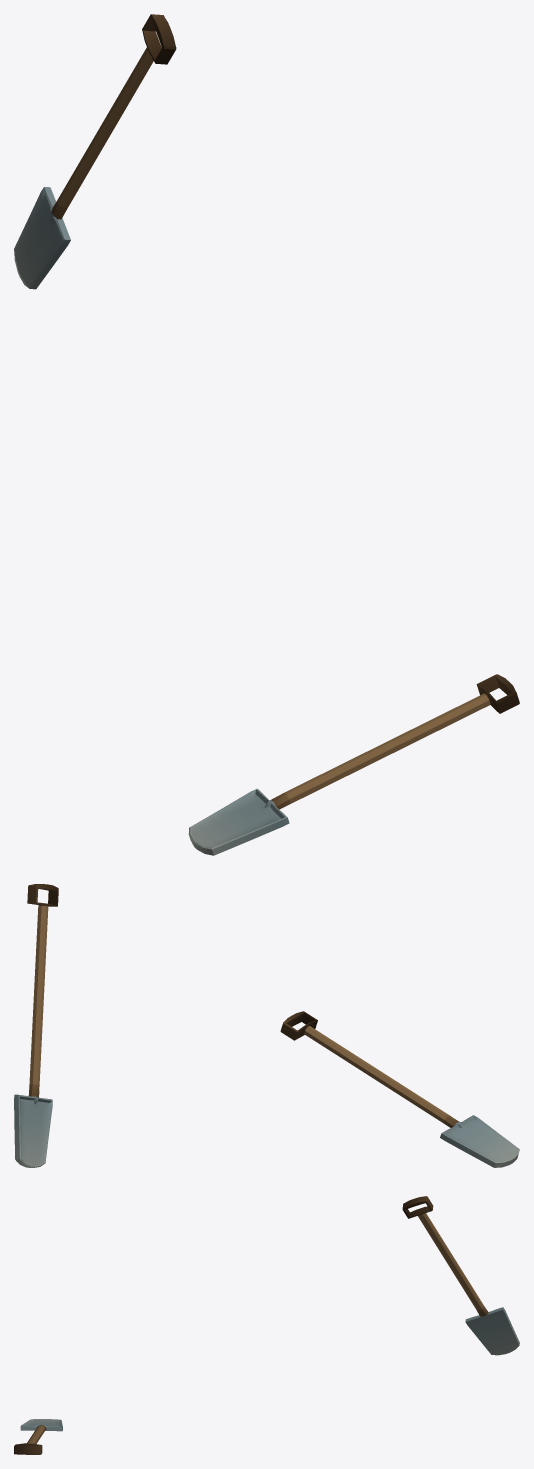
Rendered from Shovels.fbx.
The picture shows the model from 3 angles, top to bottom: view 1: azimuth 30°, elevation 25°; view 2: azimuth 150°, elevation 25°; view 3: azimuth 270°, elevation 25°; orthographic projection. The views are drawn at different scales.
Parts seen in each view (by area): view 1: Spade, Spade1; view 2: Spade1, Spade; view 3: Spade1, Spade.
Boxes of the visible parts, <box> form: Spade: <box>188,674,519,855</box>; Spade1: <box>14,14,176,289</box>; Spade1: <box>14,884,58,1167</box>; Spade: <box>280,1011,519,1167</box>; Spade1: <box>402,1196,519,1355</box>; Spade: <box>14,1419,62,1454</box>.
Bounding box in the file's own units: 1.28 × 2.12 × 3.16.
Materials: 1 (1 with a texture image).
